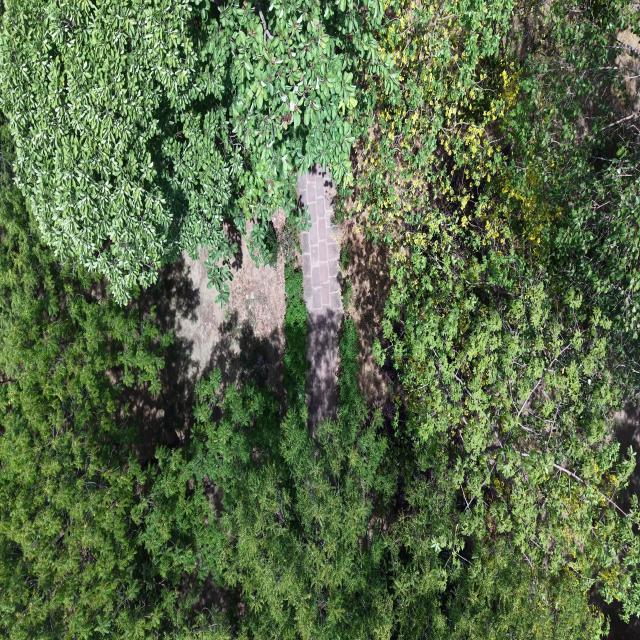DRY_AREA: (124, 235, 285, 461), (122, 240, 285, 463), (122, 238, 285, 460), (123, 240, 285, 461), (125, 238, 285, 461), (123, 241, 285, 461), (123, 242, 285, 461), (127, 235, 285, 455), (124, 235, 285, 438), (299, 166, 400, 422), (298, 165, 392, 429), (299, 167, 392, 428), (150, 242, 285, 421), (175, 238, 285, 388), (175, 240, 285, 389), (121, 256, 199, 462), (175, 242, 285, 385), (328, 200, 401, 415), (176, 239, 285, 382), (341, 209, 399, 413), (299, 168, 342, 426), (298, 166, 342, 314), (175, 248, 225, 376), (306, 310, 341, 436), (604, 29, 639, 141), (605, 30, 639, 141), (594, 595, 639, 639), (613, 400, 639, 454)
PATHWAYS: (299, 165, 342, 432)
VEGETATION_TREE: (0, 0, 639, 639), (0, 187, 601, 639), (0, 182, 394, 638), (353, 0, 639, 615), (148, 320, 602, 639), (0, 0, 387, 303), (0, 175, 179, 638), (164, 375, 397, 638)
